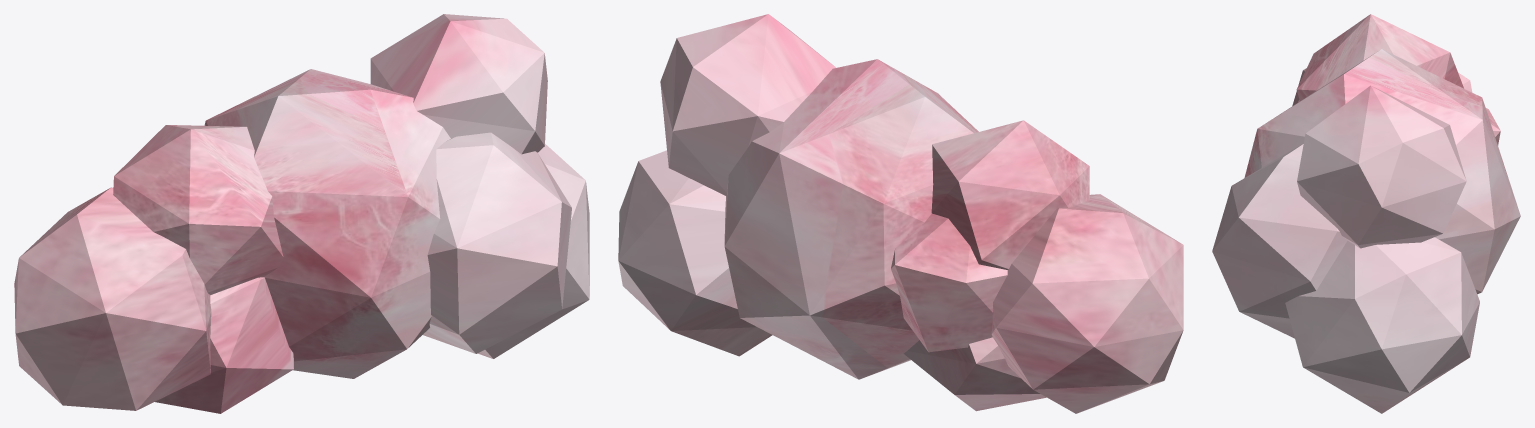
The model's file is Cloud2.fbx.
3 renders of one model, left to right at view 1: azimuth 30°, elevation 25°; view 2: azimuth 150°, elevation 25°; view 3: azimuth 270°, elevation 25°, orthographic. The views are drawn at different scales.
Visible parts, largest first — view 1: Cloud_2; view 2: Cloud_2; view 3: Cloud_2.
Part boxes in pixels (<box>): Cloud_2: <box>14,14,589,413</box>; Cloud_2: <box>618,14,1183,413</box>; Cloud_2: <box>1212,14,1520,413</box>.
Bounding box in the file's own units: 24.58 × 13.92 × 13.13.
1 material, 1 textured.
